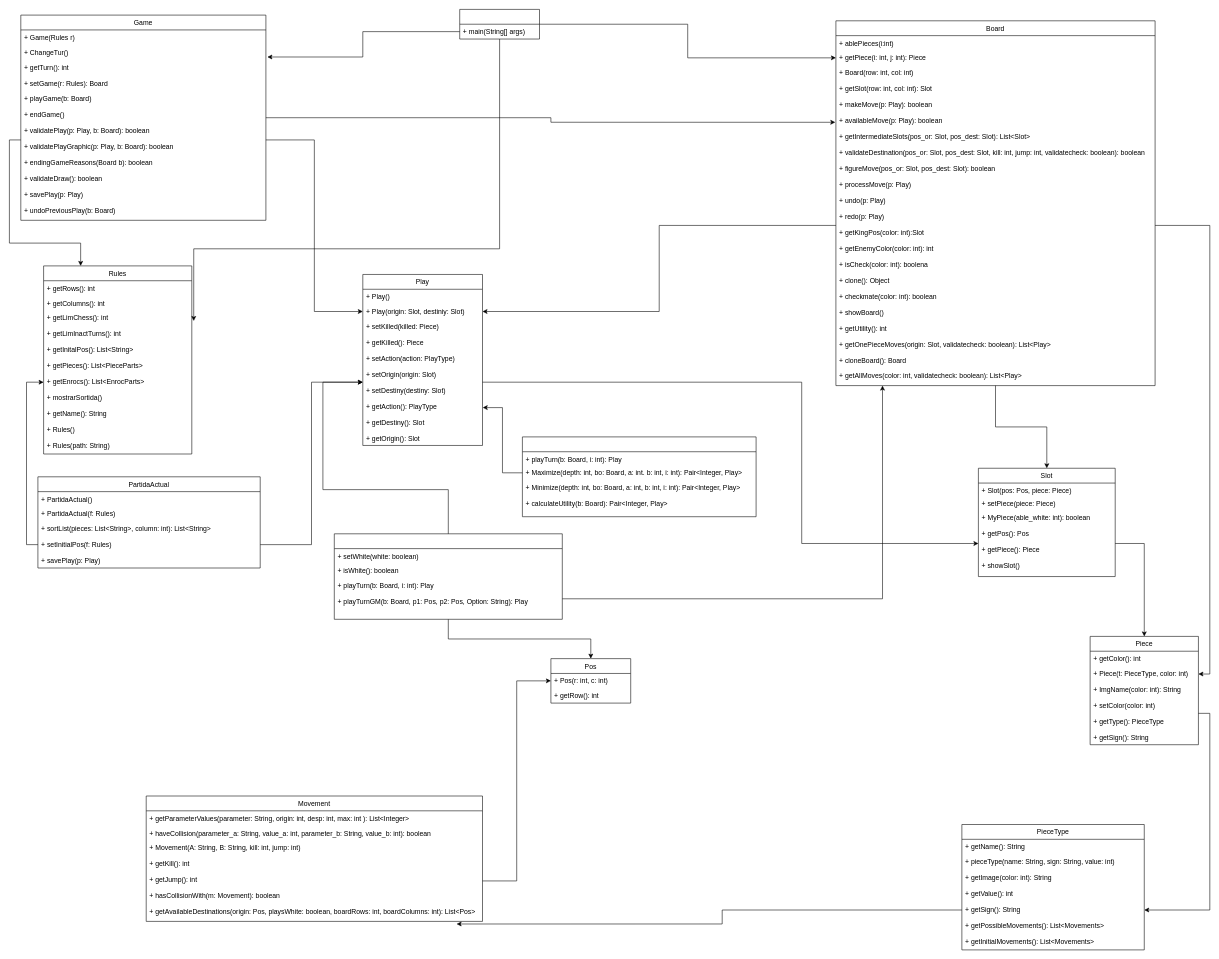
This 1219x959 diagram has some shape labels left out. Each missing label, with the box of its shape:
Chess: (459, 9, 540, 39)
CPU: (522, 436, 756, 517)
Player: (334, 533, 562, 619)
